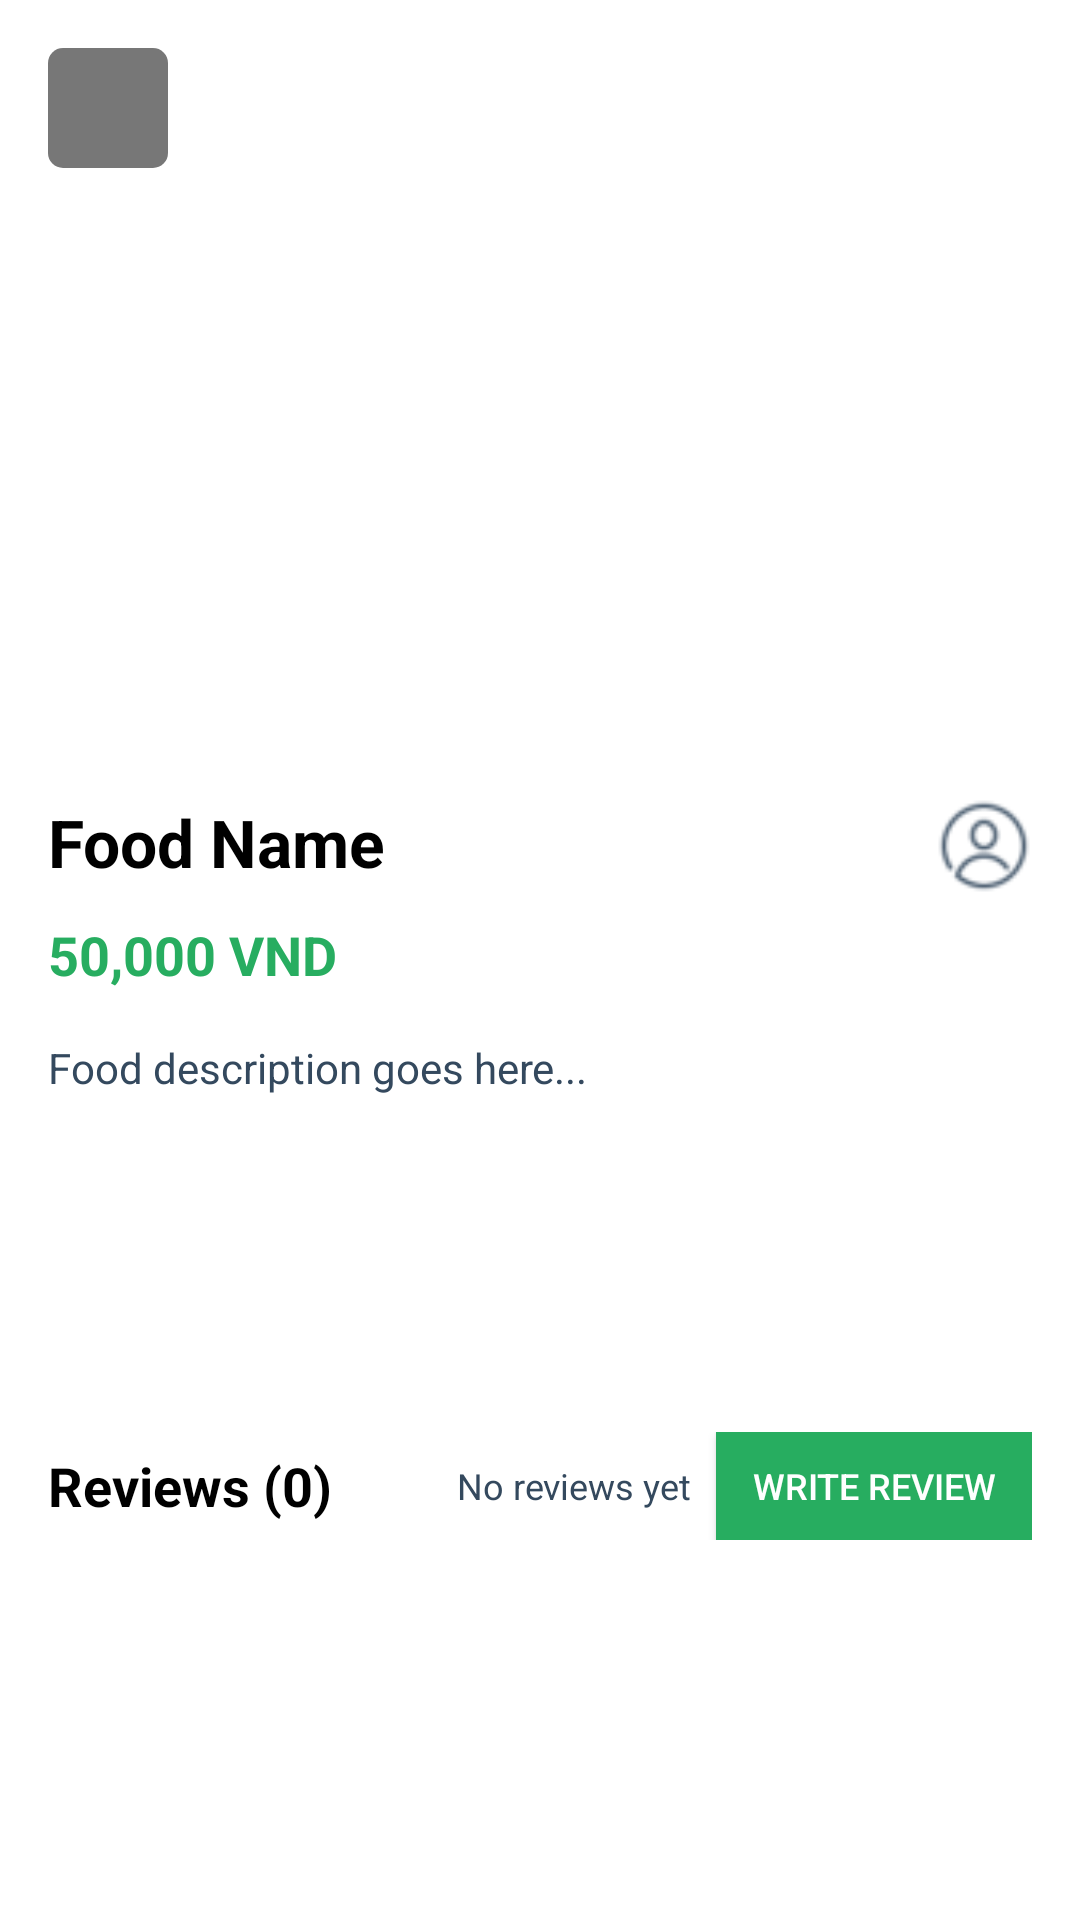

Icon bounding boxes for this 1080*1920 phone screenshot, format {"left": x1, "top": y1, "right": x2, "bottom": y2}:
user: {"left": 940, "top": 802, "right": 1028, "bottom": 890}
